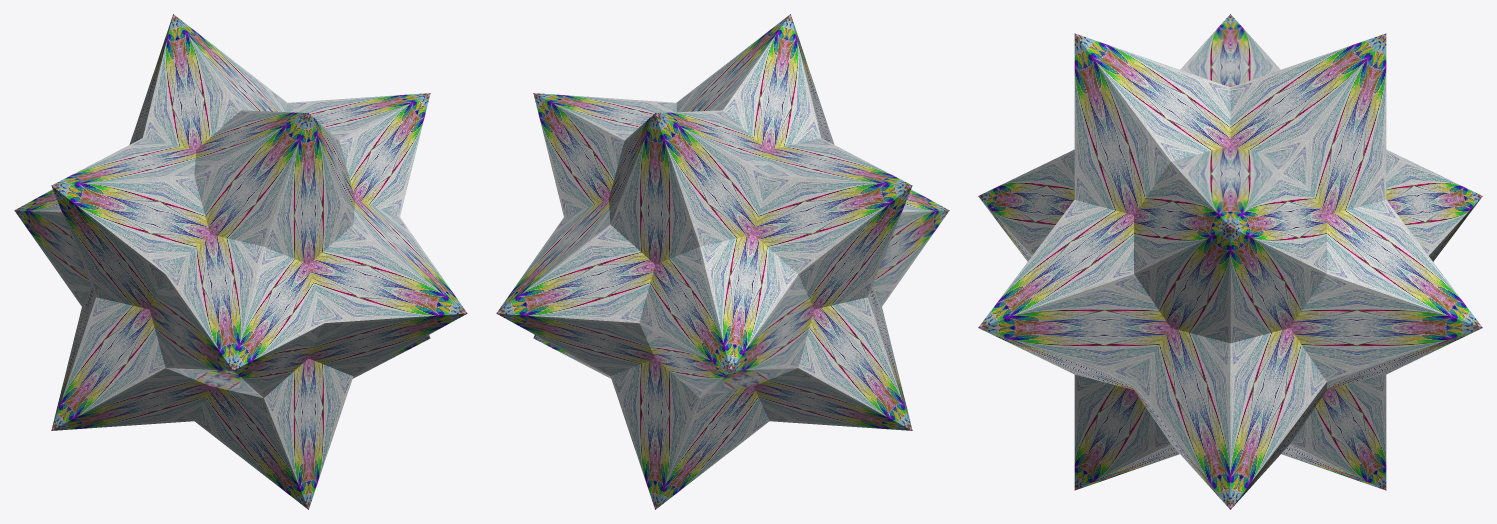
Rendered from MedialRhombicTriacontahedron3.obj.
The picture shows the model from 3 angles, left to right: view 1: azimuth 30°, elevation 25°; view 2: azimuth 150°, elevation 25°; view 3: azimuth 270°, elevation 25°; orthographic projection. The views are drawn at different scales.
Size of the model in its own units: 2.43 by 2.43 by 2.43.
1 material, 1 textured.
